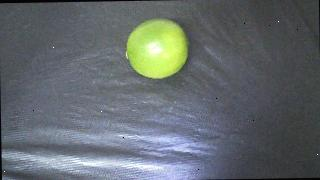LOCAL: (125, 18, 189, 79)
